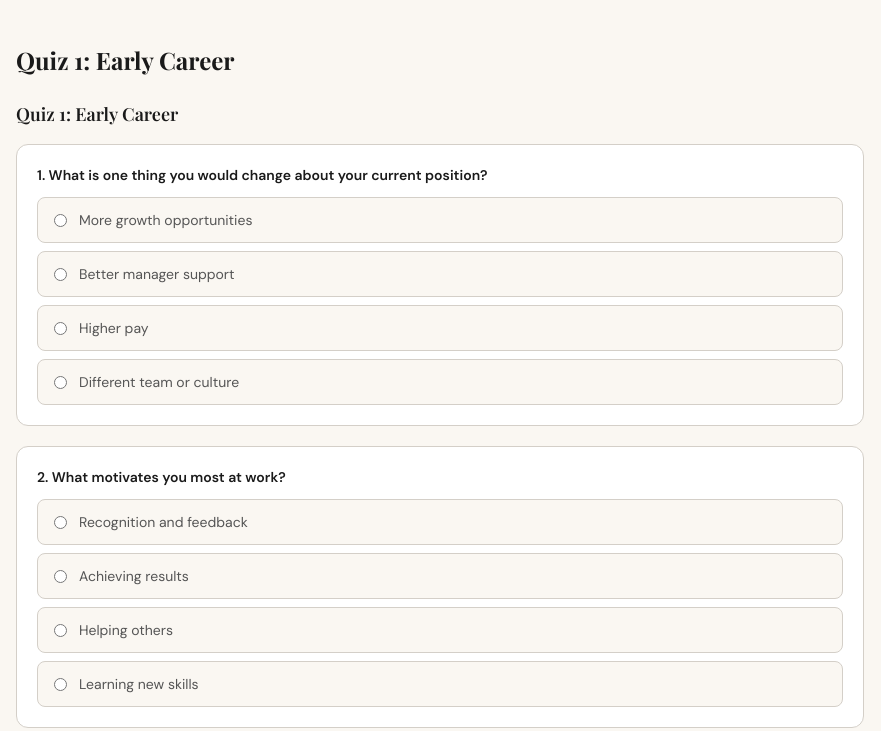
Test case: CareerQuizzes - signed in › shows a failed save inline instead of alert()
Click the radio button labelled "More growth opportunities": click(60, 220) [54,214,67,226]
(page scrolled)
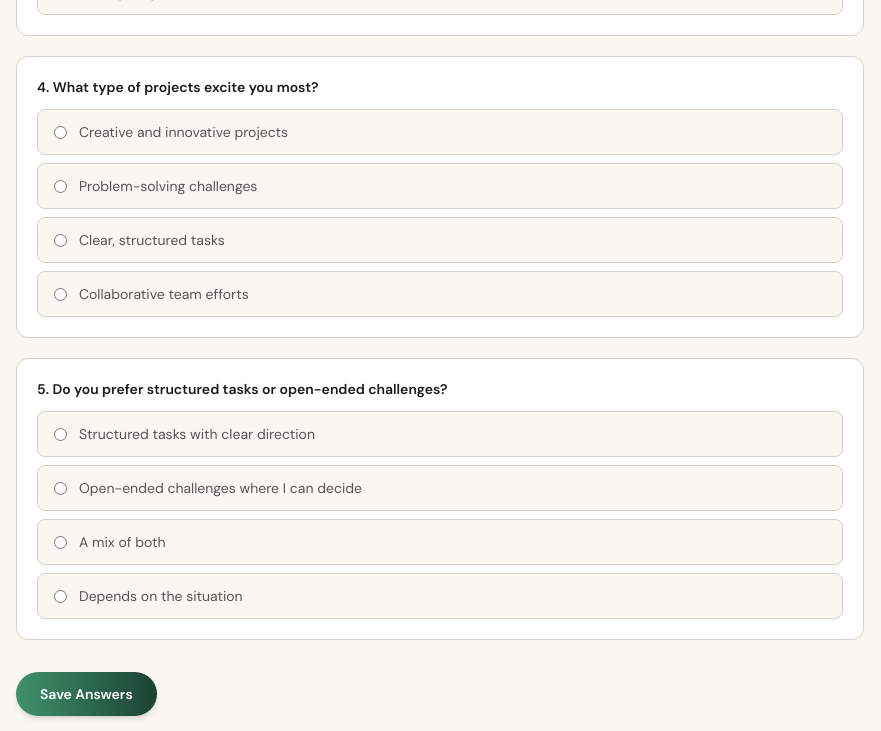
Click the button "Save Answers": click(86, 694) [16,672,157,716]
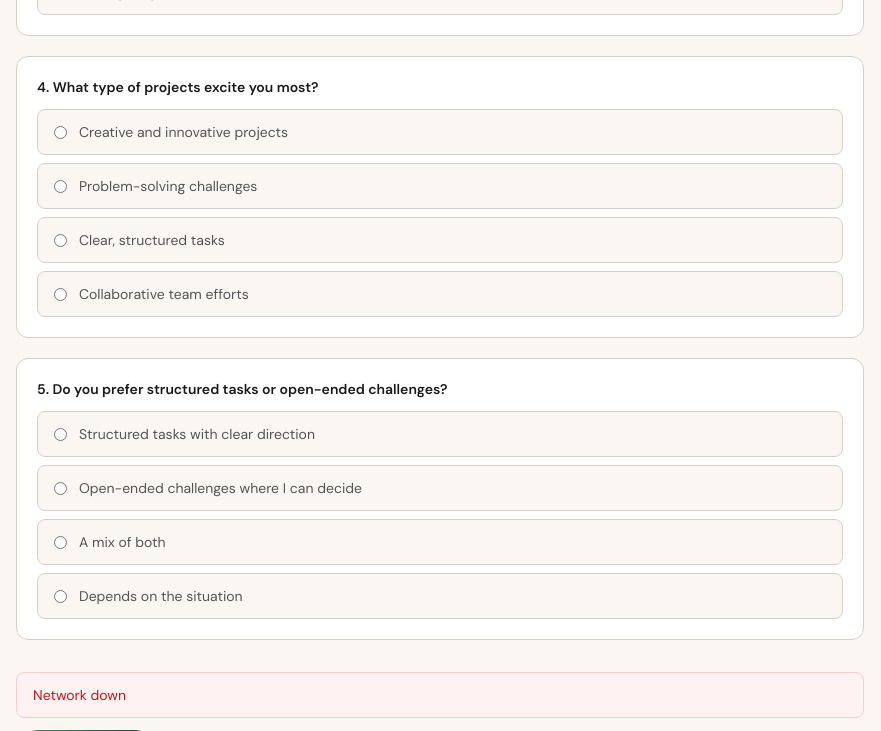
Expected: the message reads "Network down", [33,686,126,704]
